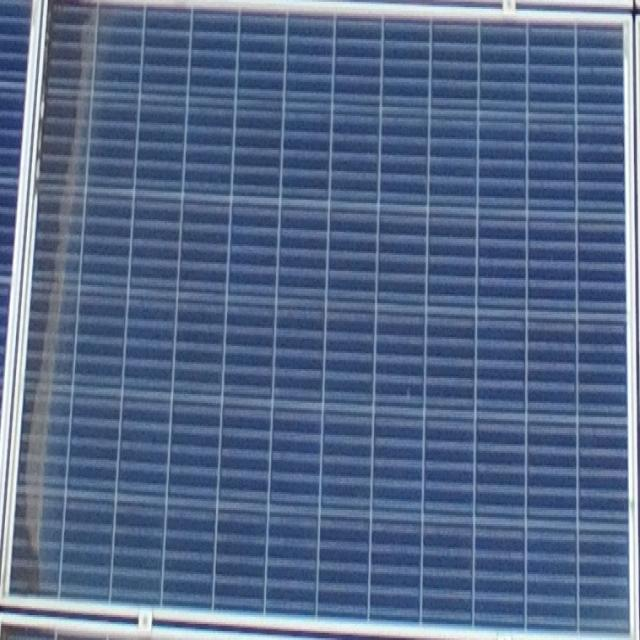Dust: (6, 9, 100, 606)
